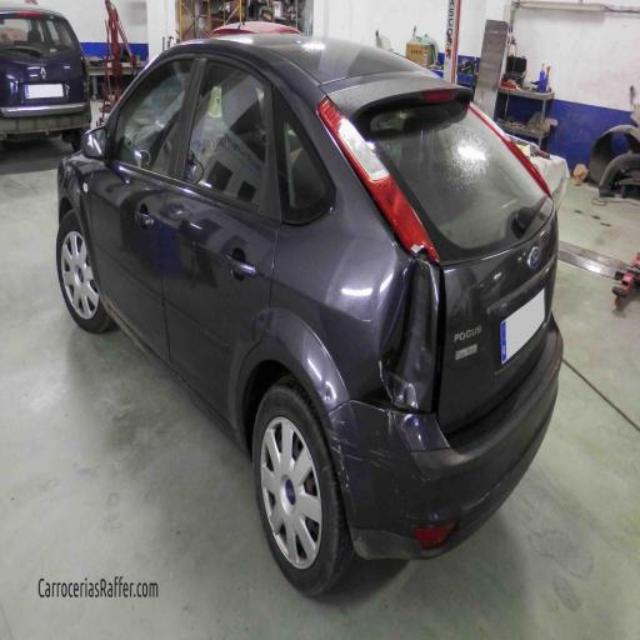dent: (379, 248, 446, 411)
rub: (326, 410, 397, 496)
scratch: (321, 380, 334, 402)
